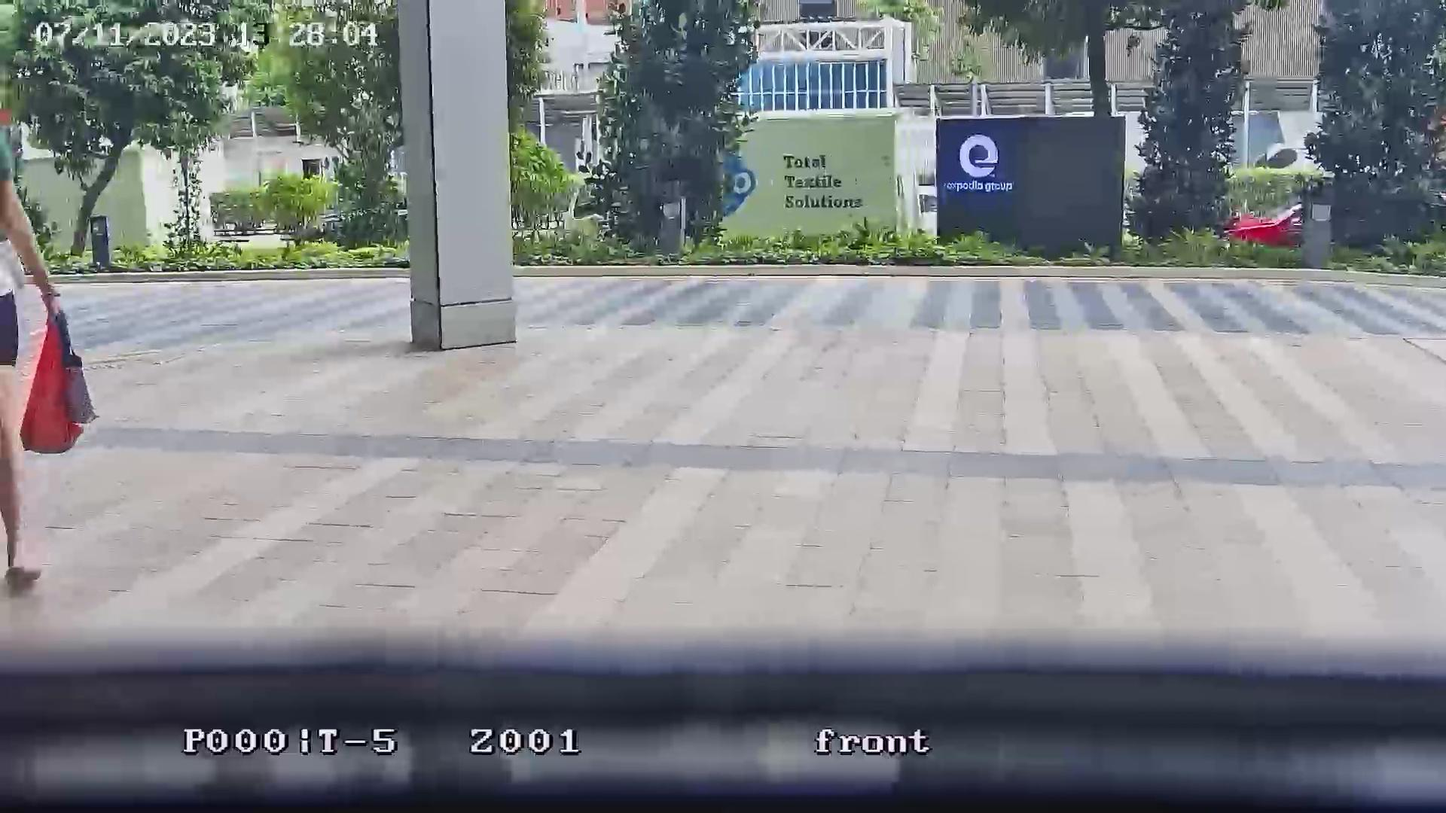person: (1, 113, 63, 595)
